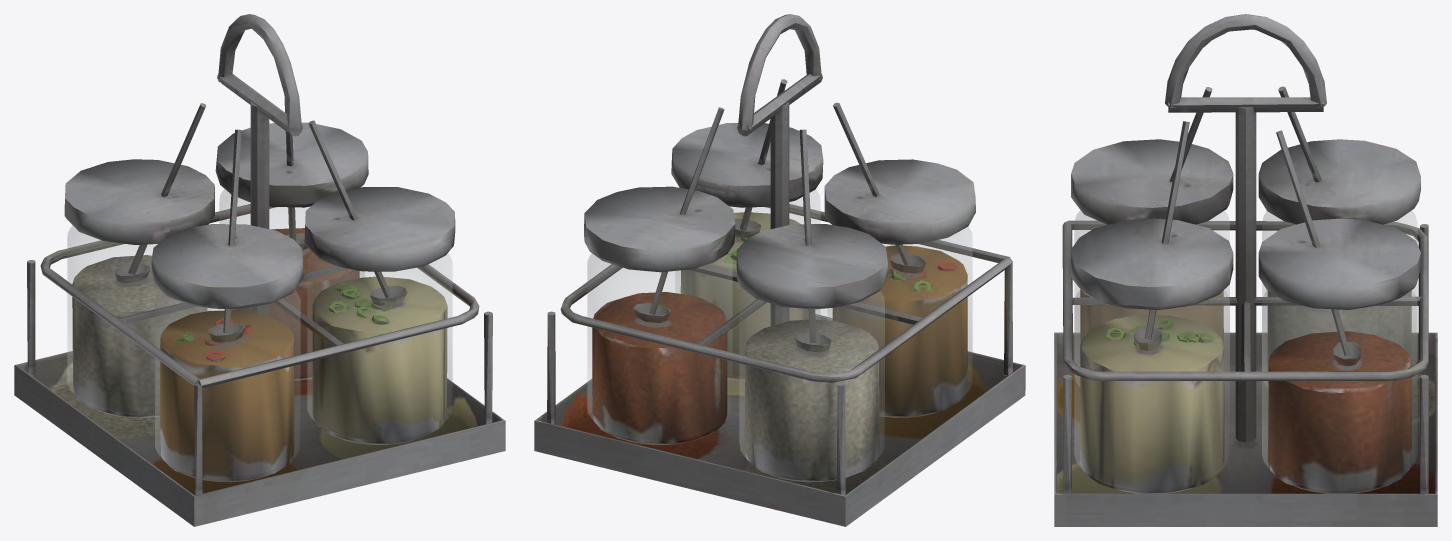
Rendered from condiment_caddy.glb.
3 views of the same model, side by side, from view 1: azimuth 30°, elevation 25°; view 2: azimuth 150°, elevation 25°; view 3: azimuth 270°, elevation 25° (orthographic). The views are drawn at different scales.
Parts seen in each view (by area): view 1: condiment_caddy, jar; view 2: condiment_caddy, jar; view 3: condiment_caddy, jar.
Boxes of the visible parts, left/top/right/bottom form: condiment_caddy: left=14, top=14, right=505, bottom=526; jar: left=67, top=189, right=452, bottom=481; condiment_caddy: left=534, top=14, right=1025, bottom=526; jar: left=587, top=189, right=972, bottom=481; condiment_caddy: left=1054, top=14, right=1437, bottom=526; jar: left=1074, top=210, right=1417, bottom=493.
Size of the model in its own units: 0.1676 by 0.2083 by 0.1676.
Materials: 2 (1 with a texture image).
